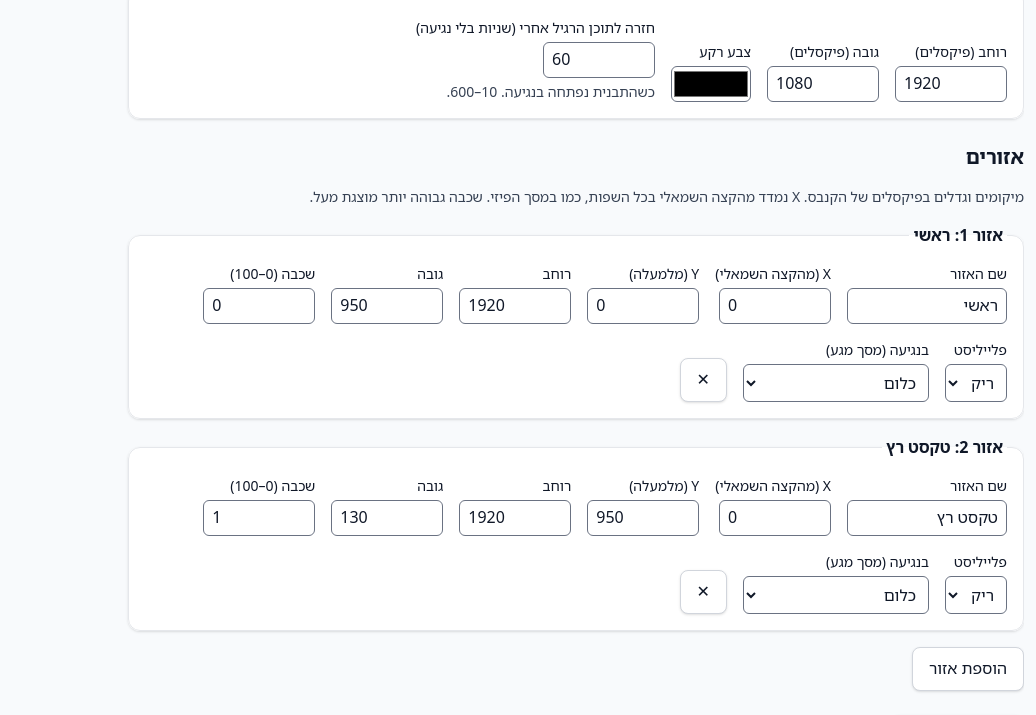
Test: LayoutEditorPage › sets what a tap on a zone does, its spoken name and the idle time
(page scrolled)
Select "פתיחת: מפה" in the dropdown labelled "בנגיעה (מסך מגע)" below "אזור 1" at x=836, y=383, box 743,364 -> 929,402
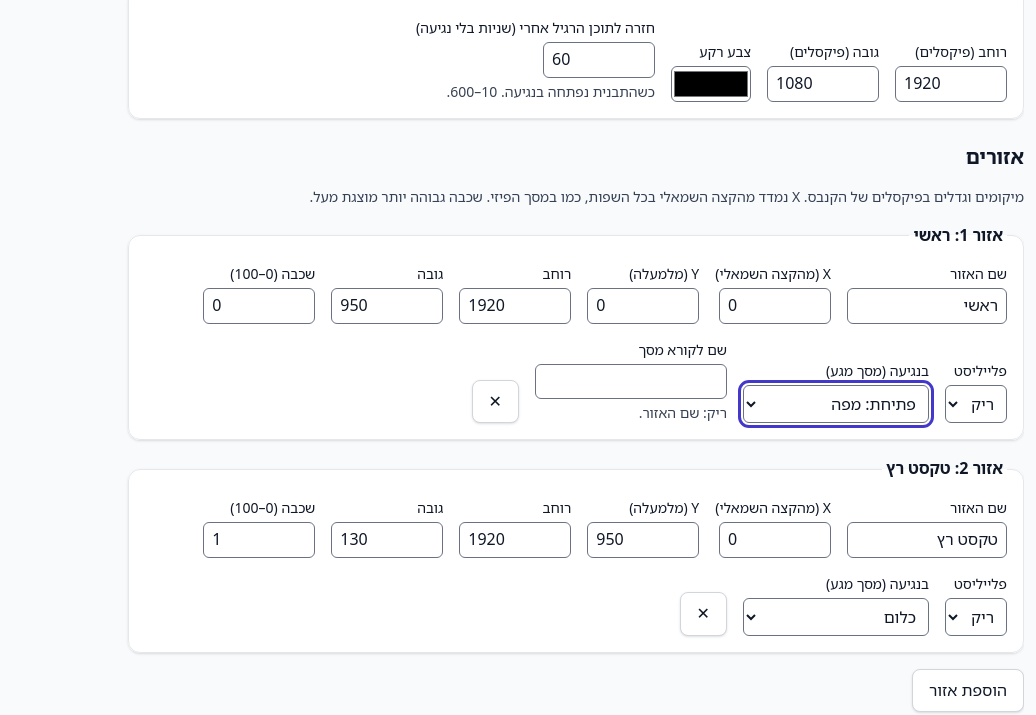
Type "פתיחת המפה" into the field labelled "שם לקורא מסך" at x=631, y=382, box 535,364 -> 727,399
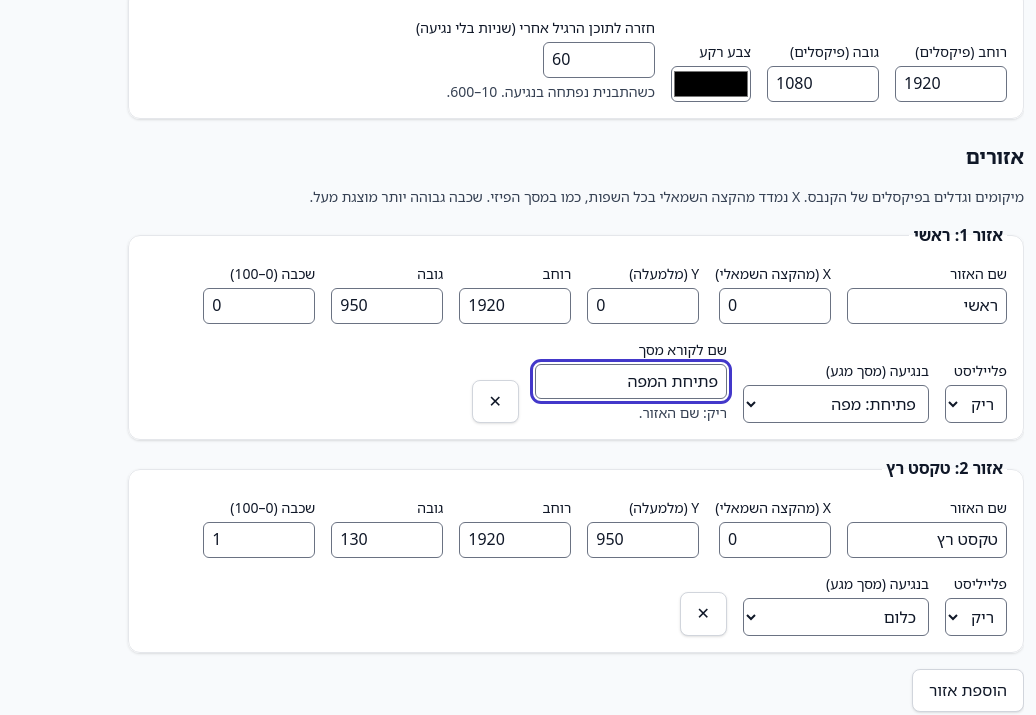
Replace the text in the number field labelled "חזרה לתוכן הרגיל אחרי (שניות בלי נגיעה)" with "45" at x=599, y=60, box 543,42 -> 655,78
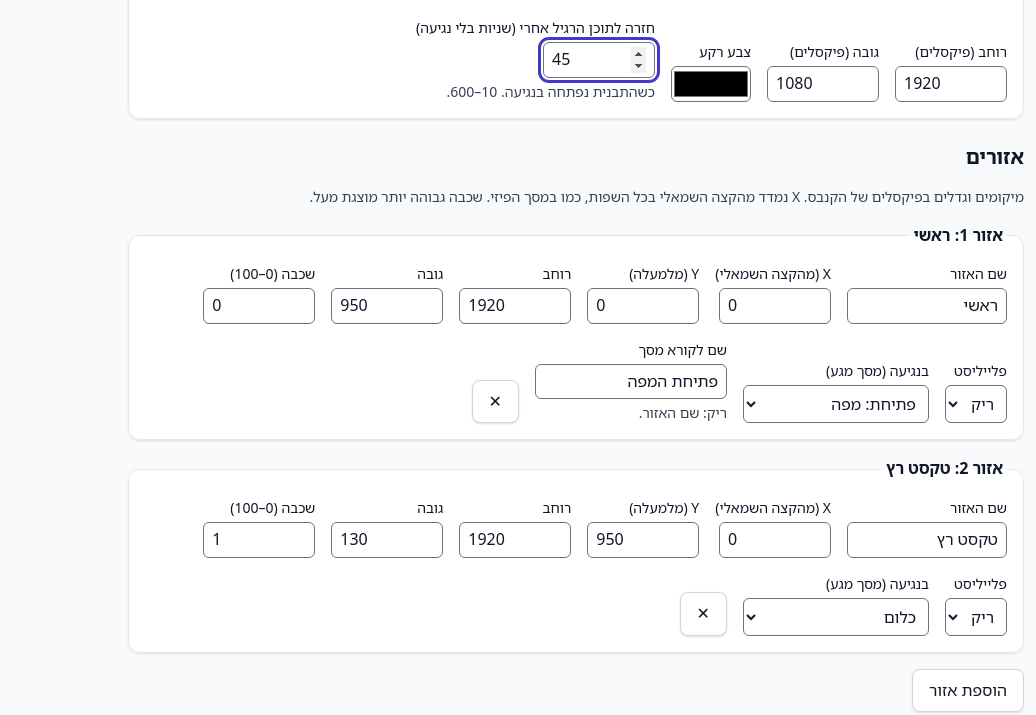
// A thin zone gets a hint that it is small for touch.
Replace the text in the 2nd number field labelled "גובה" with "60" at x=387, y=540, box 331,522 -> 443,558
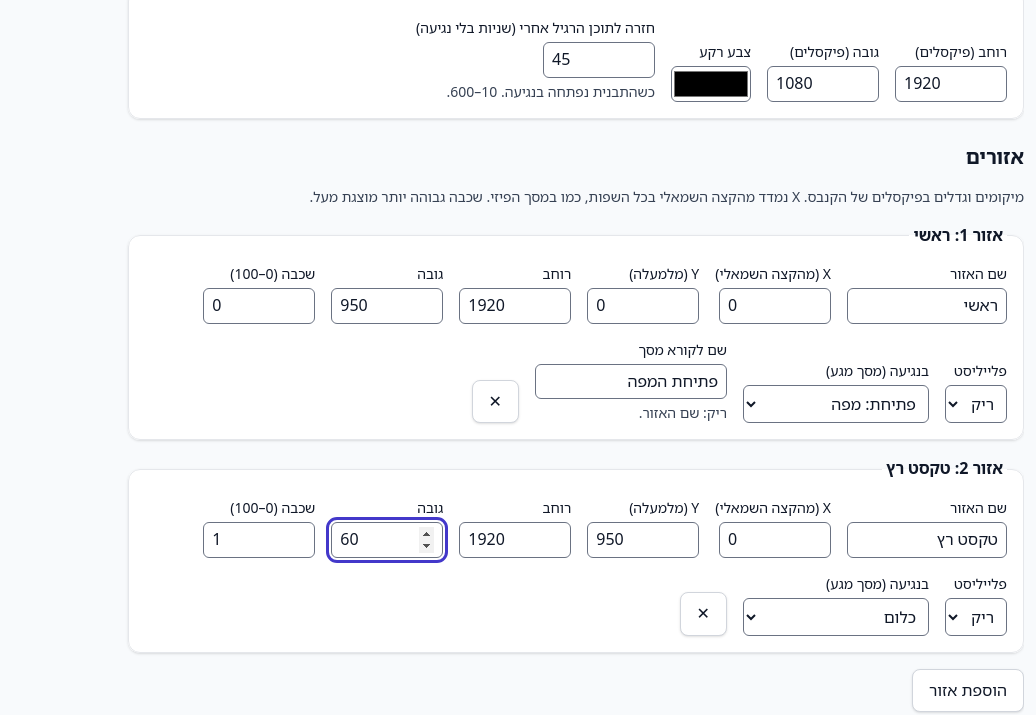
Select "חזרה לתבנית הקודמת" in the dropdown labelled "בנגיעה (מסך מגע)" below "אזור 2" at x=836, y=616, box 743,598 -> 929,636
(page scrolled)
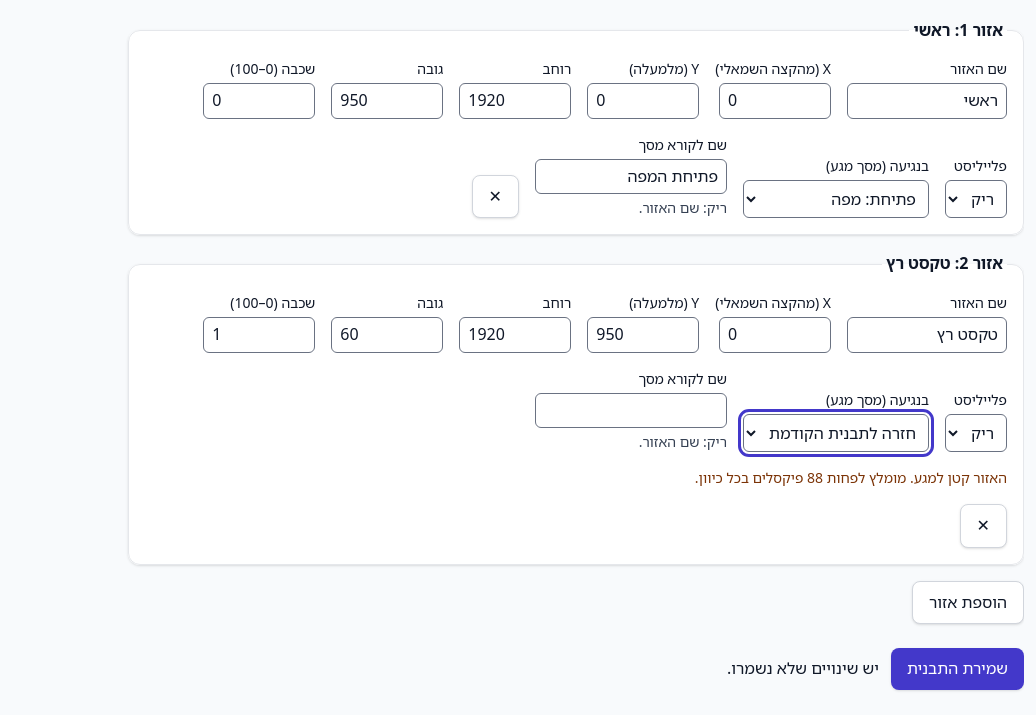
Check: the text "האזור קטן למגע. מומלץ לפחות 88 פיקסלים בכל כיוון." is shown, box 695,468 -> 1007,487
Click the button "שמירת התבנית" at x=957, y=669, box 891,648 -> 1024,690
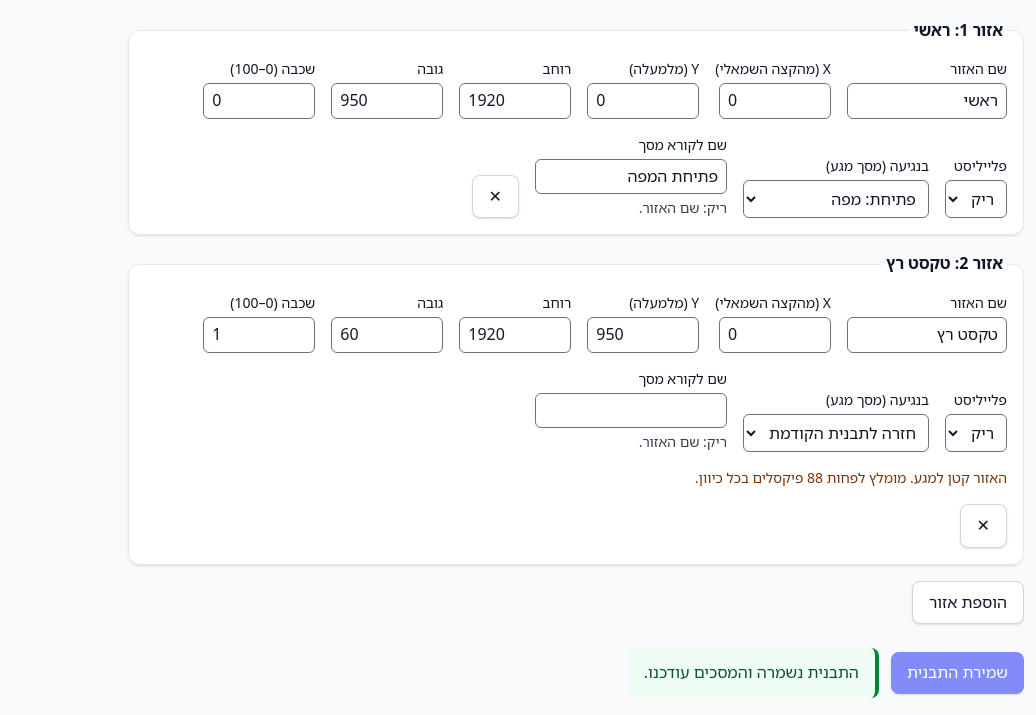
Check: the text "התבנית נשמרה והמסכים עודכנו." is shown, box 628,648 -> 879,698
